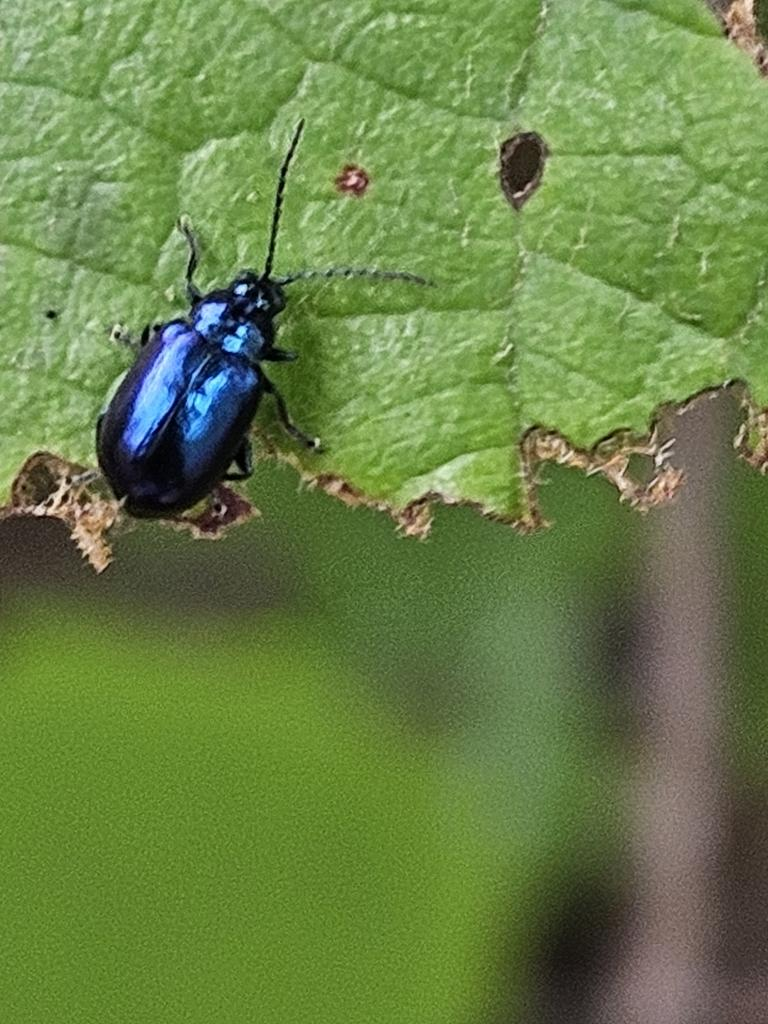flea_beetle: (50, 67, 461, 608)
